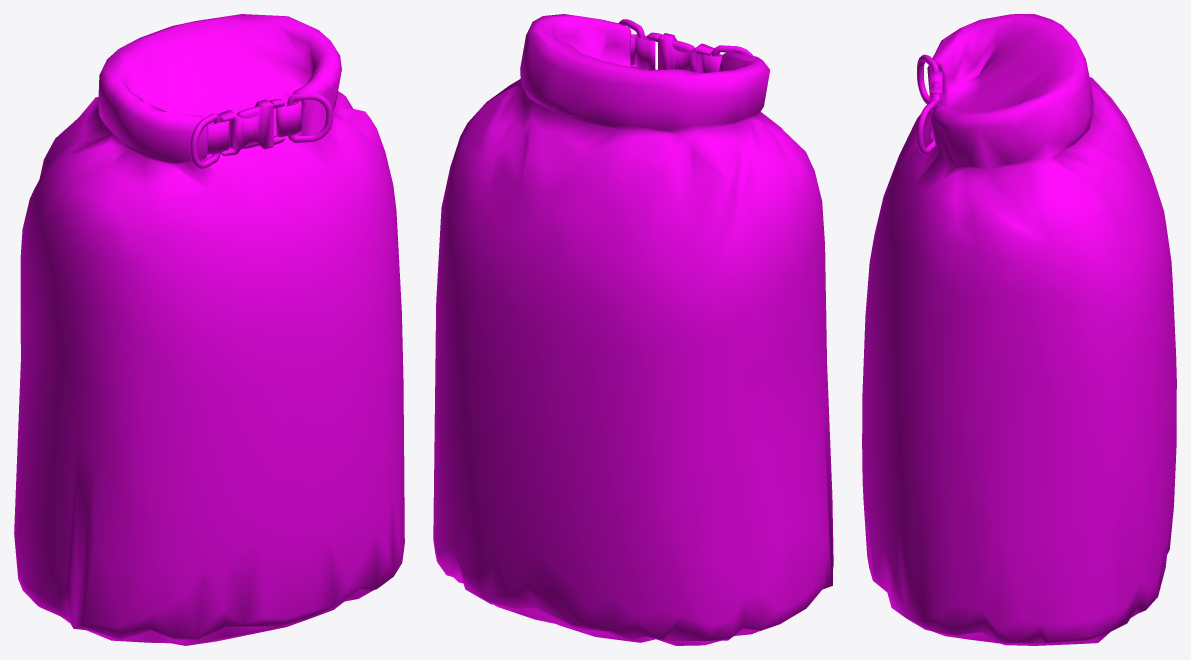
The model's file is smalldrybag.dae.
The picture shows the model from 3 angles, left to right: view 1: azimuth 30°, elevation 25°; view 2: azimuth 150°, elevation 25°; view 3: azimuth 270°, elevation 25°; orthographic projection. The views are drawn at different scales.
Parts seen in each view (by area): view 1: DryBagSmall; view 2: DryBagSmall; view 3: DryBagSmall.
Boxes of the visible parts, x1=… form: DryBagSmall: x1=14, y1=14, x2=404, y2=645; DryBagSmall: x1=433, y1=14, x2=833, y2=645; DryBagSmall: x1=862, y1=14, x2=1176, y2=645.
Size of the model in its own units: 17.34 by 14.03 by 26.45.
